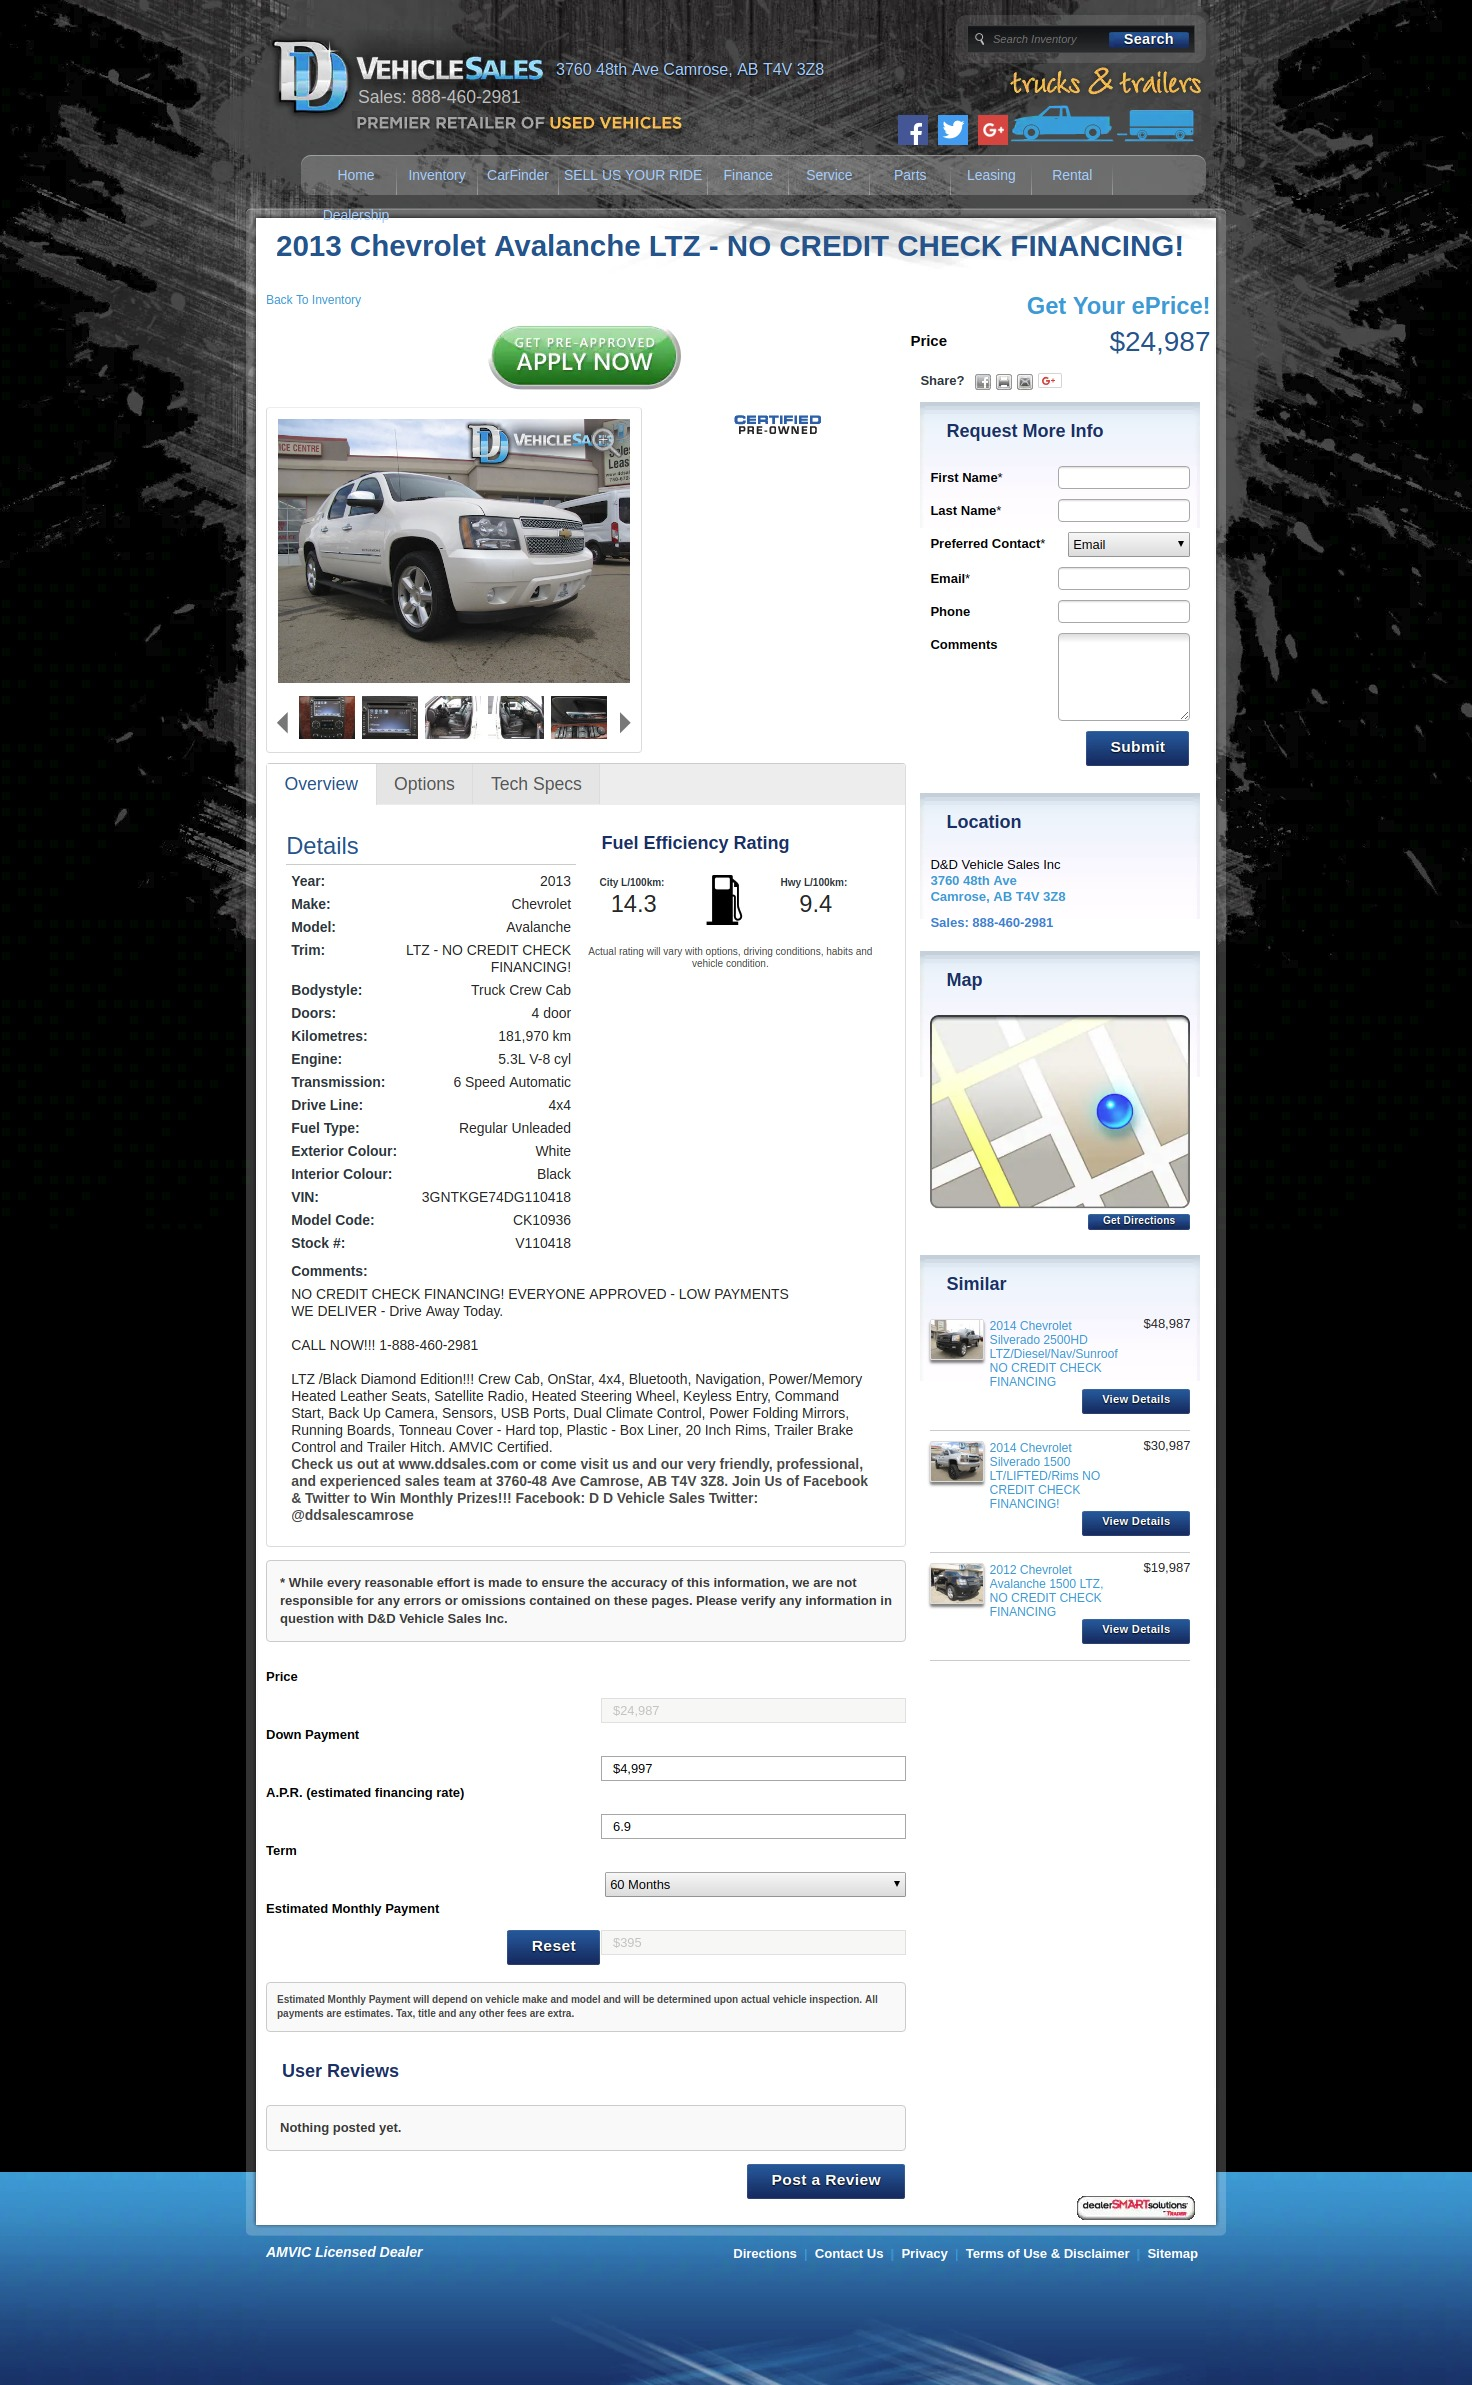car: (618, 712, 630, 734)
